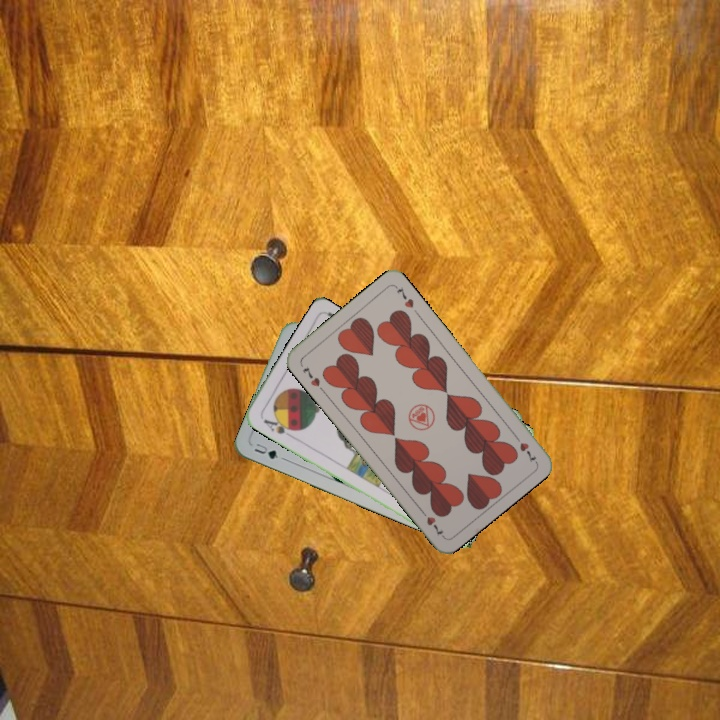GU: (250, 439, 287, 463)
H7: (510, 430, 539, 465), (299, 362, 323, 389)
SA: (259, 413, 298, 440)
